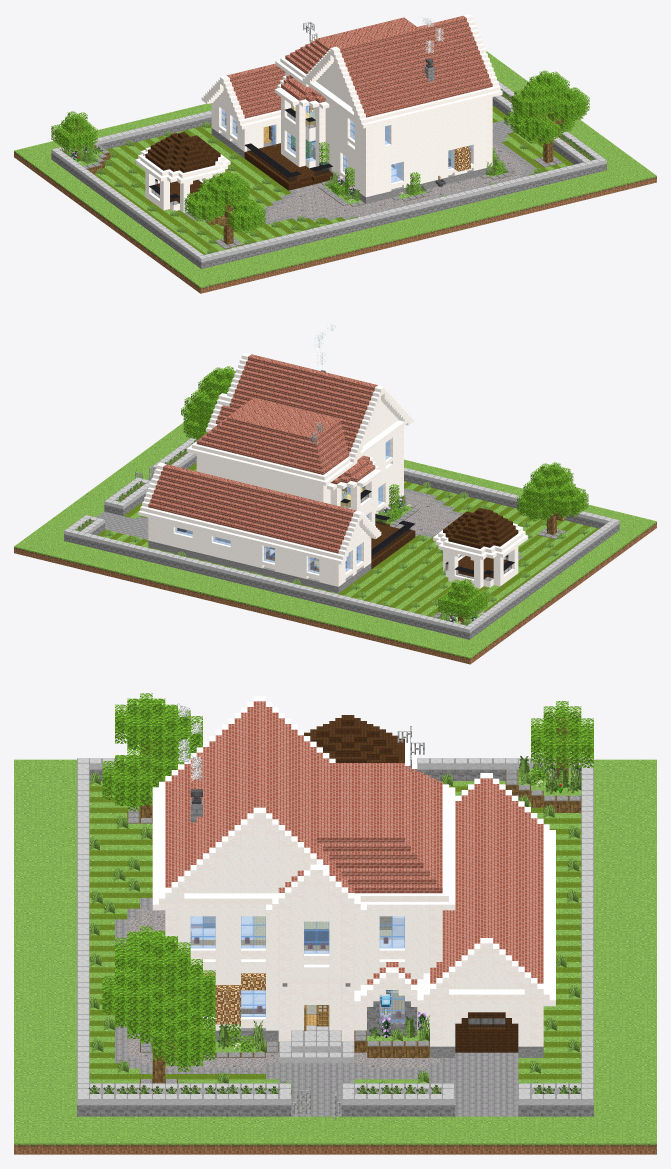
The picture shows the model from 3 angles, top to bottom: view 1: azimuth 30°, elevation 25°; view 2: azimuth 150°, elevation 25°; view 3: azimuth 270°, elevation 25°; orthographic projection. The views are drawn at different scales.
Parts seen in each view (by area): view 1: Object_32, Object_7, Object_10, Object_68, Object_44, Object_54, Object_65, Object_75, Object_33, Object_46, Object_58, Object_21 (+7 smaller); view 2: Object_32, Object_10, Object_68, Object_7, Object_54, Object_44, Object_75, Object_65, Object_58, Object_21, Object_64, Object_46 (+5 smaller); view 3: Object_32, Object_10, Object_68, Object_7, Object_54, Object_44, Object_36, Object_75, Object_65, Object_58, Object_62, Object_45 (+11 smaller).
Part boxes in pixels (<box>): Object_32: <box>14,51,656,293</box>; Object_7: <box>145,62,492,212</box>; Object_10: <box>230,21,492,118</box>; Object_68: <box>51,14,606,262</box>; Object_44: <box>51,70,589,233</box>; Object_54: <box>135,20,502,189</box>; Object_65: <box>51,66,606,268</box>; Object_75: <box>94,105,573,254</box>; Object_33: <box>192,144,527,221</box>; Object_46: <box>155,106,450,202</box>; Object_58: <box>66,89,595,253</box>; Object_21: <box>145,135,313,187</box>; Object_32: <box>14,421,656,664</box>; Object_10: <box>148,360,374,553</box>; Object_68: <box>64,352,619,632</box>; Object_7: <box>148,400,518,588</box>; Object_54: <box>138,358,528,580</box>; Object_44: <box>181,366,588,619</box>; Object_75: <box>97,462,598,616</box>; Object_65: <box>64,456,619,639</box>; Object_58: <box>75,440,588,623</box>; Object_21: <box>386,511,518,548</box>; Object_64: <box>148,500,402,593</box>; Object_46: <box>177,488,507,578</box>; Object_32: <box>14,759,656,1154</box>; Object_10: <box>165,707,543,984</box>; Object_68: <box>77,696,593,1105</box>; Object_7: <box>165,827,543,1046</box>; Object_54: <box>152,701,555,1027</box>; Object_44: <box>102,693,593,1071</box>; Object_36: <box>115,898,518,1116</box>; Object_75: <box>89,786,581,1079</box>; Object_65: <box>77,769,593,1116</box>; Object_58: <box>88,771,580,1094</box>; Object_62: <box>190,916,505,1027</box>; Object_45: <box>127,717,581,1083</box>.
Size of the model in its own units: 2.67 by 0.963 by 1.89.
Materials: 74 (74 with a texture image).
